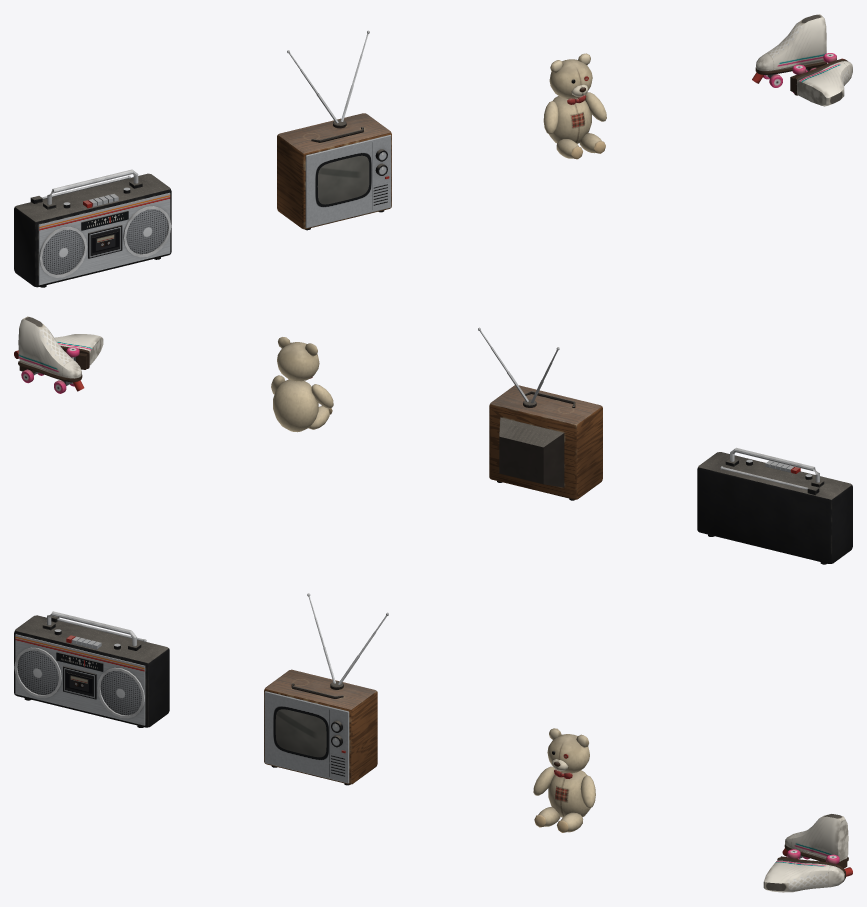
Rendered from Bedroom.fbx.
The picture shows the model from 3 angles, top to bottom: view 1: azimuth 30°, elevation 25°; view 2: azimuth 150°, elevation 25°; view 3: azimuth 330°, elevation 25°; orthographic projection.
Visible parts, largest first — view 1: Boombox, Television, Skates, Teddy; view 2: Boombox, Television, Teddy, Skates; view 3: Boombox, Television, Skates, Teddy.
Boxes of the visible parts, left/top/right/bottom form: Boombox: left=14, top=169, right=171, bottom=287; Television: left=277, top=30, right=391, bottom=230; Skates: left=752, top=14, right=852, bottom=106; Teddy: left=543, top=53, right=606, bottom=159; Boombox: left=697, top=447, right=852, bottom=564; Television: left=478, top=327, right=602, bottom=500; Teddy: left=271, top=337, right=333, bottom=432; Skates: left=14, top=316, right=103, bottom=393; Boombox: left=14, top=611, right=169, bottom=727; Television: left=264, top=593, right=388, bottom=785; Skates: left=763, top=814, right=852, bottom=892; Teddy: left=533, top=728, right=595, bottom=832.
Size of the model in its own units: 13.83 by 2.5 by 1.55.
Materials: 1 (1 with a texture image).
